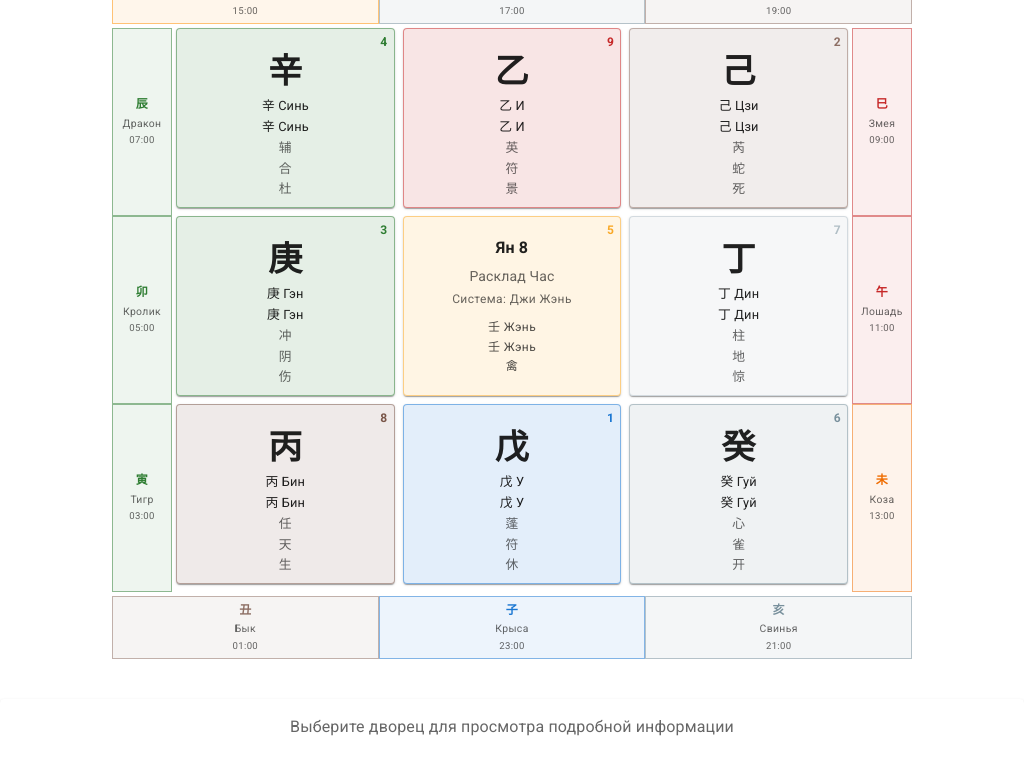
it: QiMenPage › shows palace detail when a palace is clicked
(page scrolled)
Click the element with test id "qimen-palace-1": {"x": 512, "y": 494} [403,404,621,584]
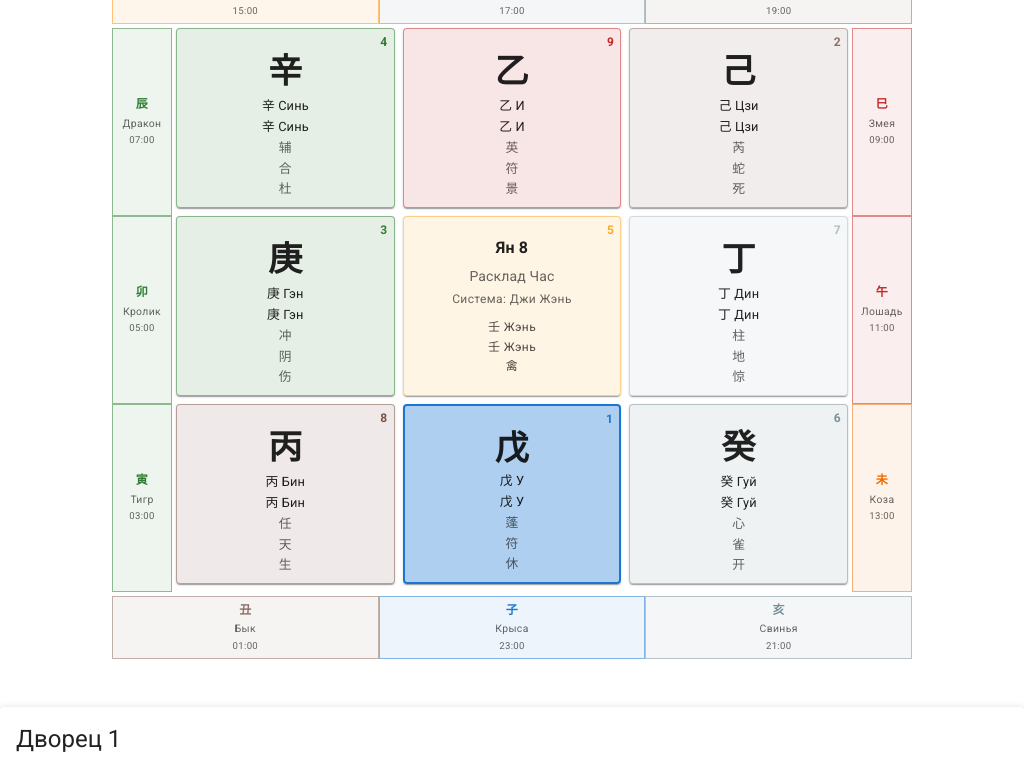
Expected: the text "Дворец 1" is shown, [16,725,121,753]
